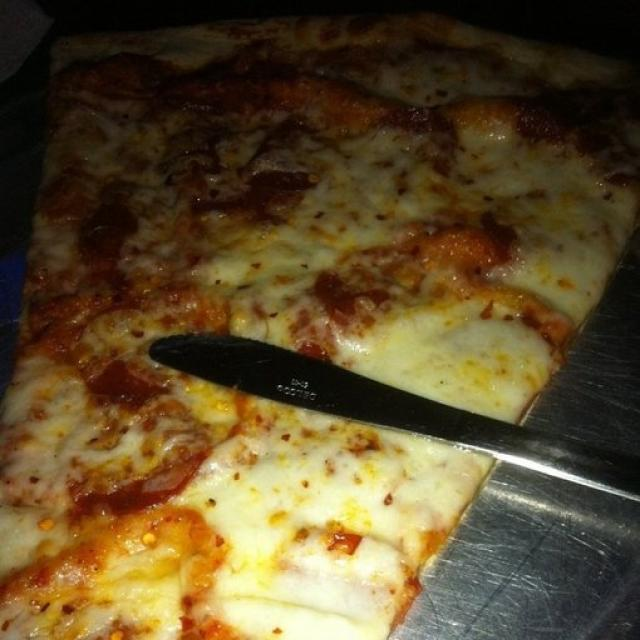Pizza: (1, 16, 637, 640)
